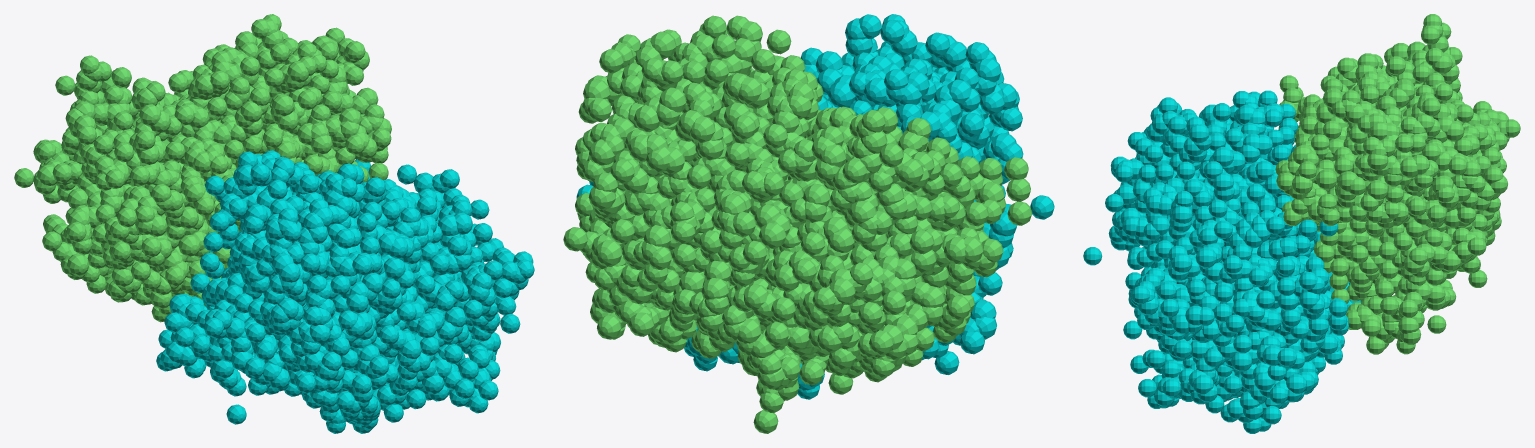
Rendered from 1gfl__spheres__chain.glb.
The picture shows the model from 3 angles, left to right: view 1: azimuth 30°, elevation 25°; view 2: azimuth 150°, elevation 25°; view 3: azimuth 270°, elevation 25°; orthographic projection. The views are drawn at different scales.
Visible parts, largest first — view 1: Renderer Node; view 2: Renderer Node; view 3: Renderer Node.
Part boxes in pixels (bbox=[...]): Renderer Node: bbox=[14, 14, 534, 433]; Renderer Node: bbox=[563, 14, 1054, 433]; Renderer Node: bbox=[1083, 14, 1520, 433].
Size of the model in its own units: 64.21 by 56.48 by 69.87.
